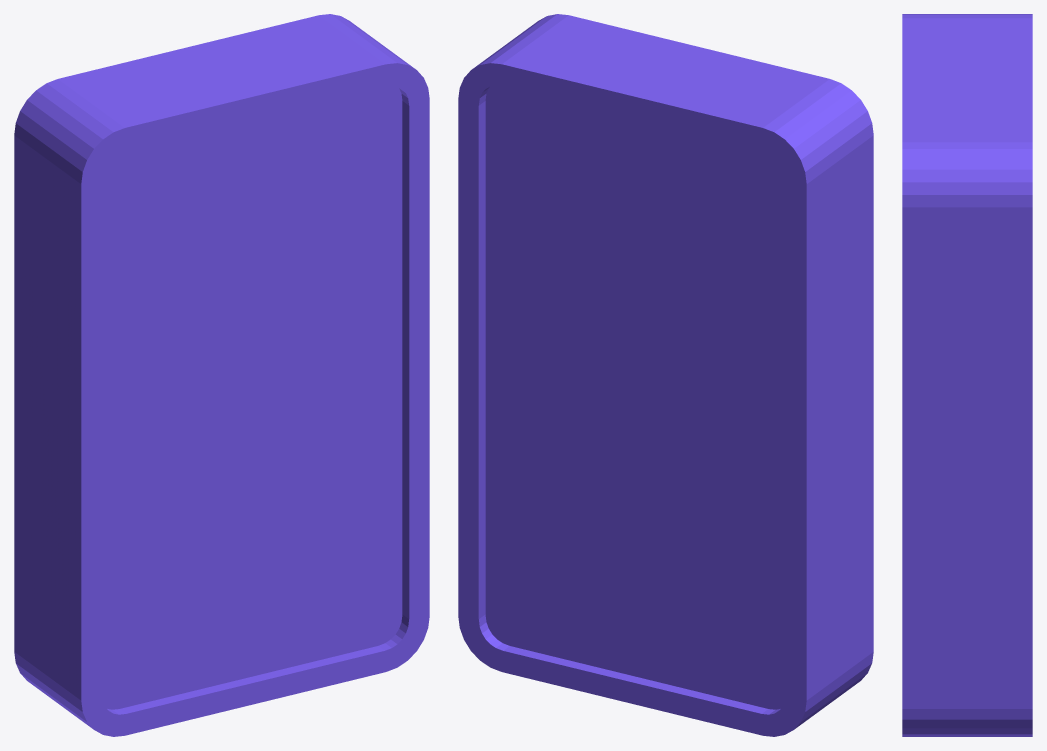
The model's file is domino.glb.
3 renders of one model, left to right at view 1: azimuth 30°, elevation 25°; view 2: azimuth 150°, elevation 25°; view 3: azimuth 270°, elevation 25°, orthographic. The views are drawn at different scales.
Parts seen in each view (by area): view 1: Cube; view 2: Cube; view 3: Cube.
Boxes of the visible parts, bbox=[...] form: Cube: bbox=[14, 14, 429, 736]; Cube: bbox=[458, 14, 873, 736]; Cube: bbox=[902, 14, 1032, 736].
Bounding box in the file's own units: 0.6 × 1 × 0.2.
Materials: 1 (1 with a texture image).
